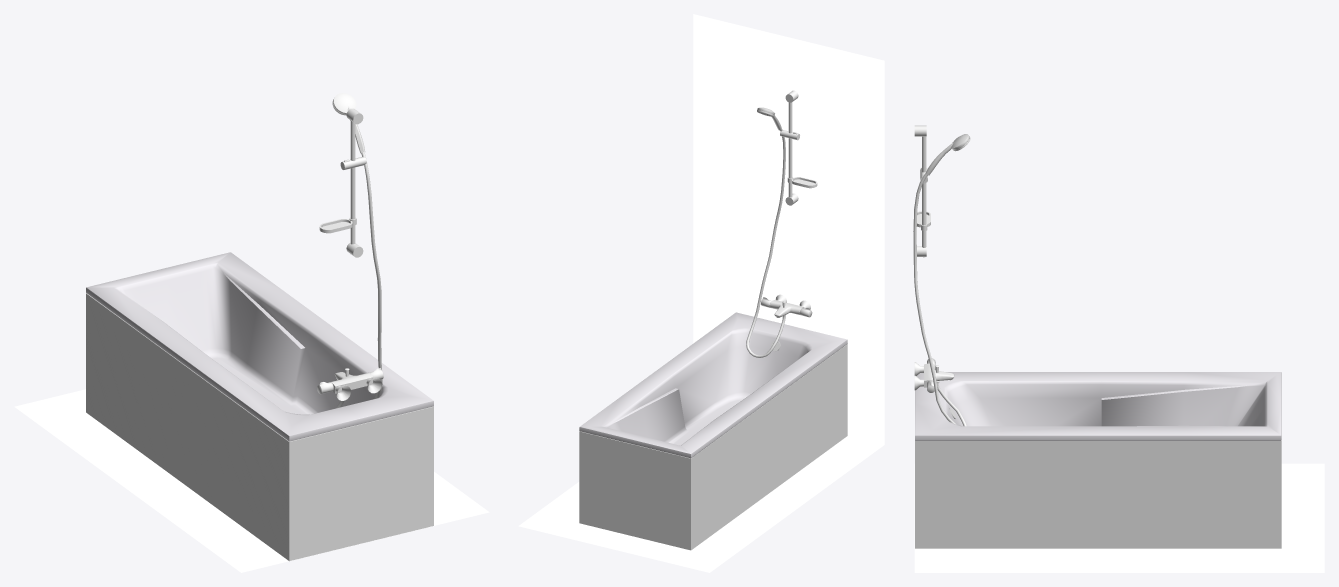
File: bathtub_cogedim_2023.gltf
3 views of the same model, side by side, from view 1: azimuth 30°, elevation 25°; view 2: azimuth 150°, elevation 25°; view 3: azimuth 270°, elevation 25° (orthographic). The views are drawn at different scales.
Visible parts, largest first — view 1: panels_bathtub_cogedim, base_bathtub_cogedim, shadows_ground, tap_bathtub_cogedim; view 2: shadows_wall, panels_bathtub_cogedim, base_bathtub_cogedim, shadows_ground, tap_bathtub_cogedim; view 3: panels_bathtub_cogedim, base_bathtub_cogedim, shadows_ground, tap_bathtub_cogedim.
Part boxes in pixels (x1,y1,x2,y2): panels_bathtub_cogedim: (86,293,433,561); base_bathtub_cogedim: (86,252,433,441); shadows_ground: (14,389,489,572); tap_bathtub_cogedim: (317,93,383,408); shadows_wall: (693,14,884,444); panels_bathtub_cogedim: (579,344,847,550); base_bathtub_cogedim: (579,312,847,458); shadows_ground: (518,436,884,572); tap_bathtub_cogedim: (746,90,817,357); panels_bathtub_cogedim: (915,440,1281,548); base_bathtub_cogedim: (915,372,1281,440); shadows_ground: (914,463,1324,572); tap_bathtub_cogedim: (913,125,970,426).
Size of the model in its own units: 1.2 by 2.3 by 1.91.
6 materials, 4 textured.
